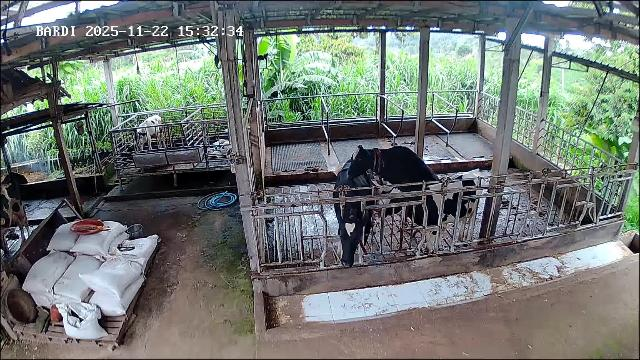mounting: (348, 146, 442, 194)
